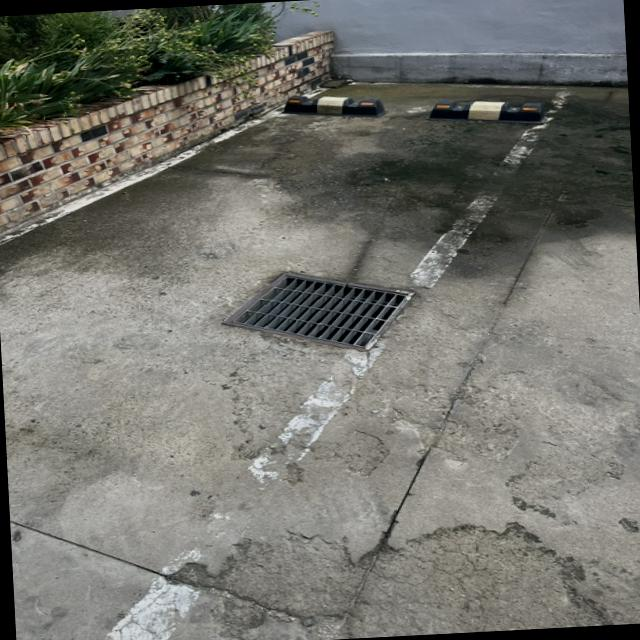drain_area: (229, 273, 413, 350)
drain_full: (229, 273, 412, 350)
